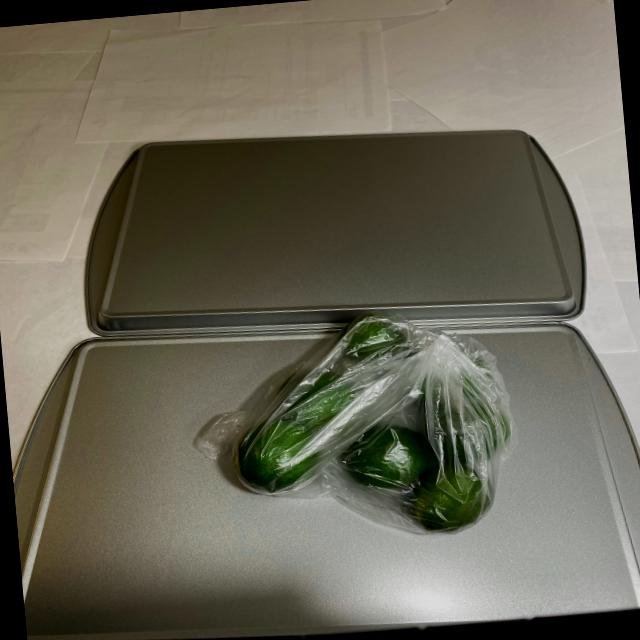lemon: (224, 306, 507, 548)
